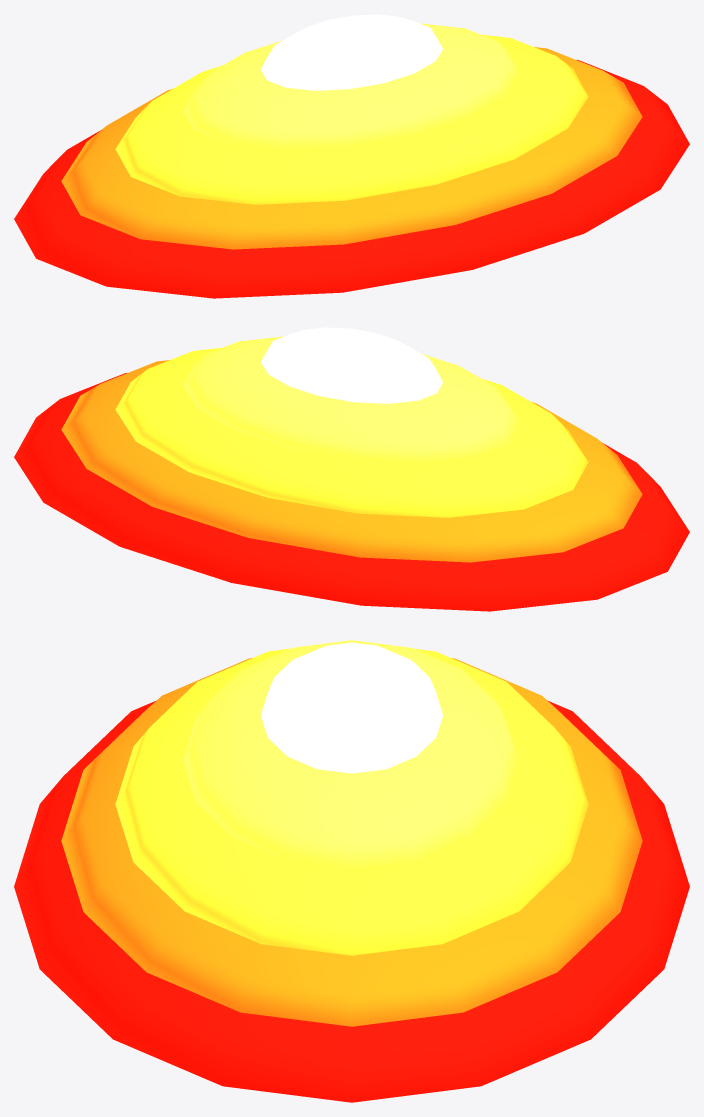
Rendered from newshj-19-f3.glb.
3 renders of one model, top to bottom at view 1: azimuth 30°, elevation 25°; view 2: azimuth 150°, elevation 25°; view 3: azimuth 270°, elevation 25°, orthographic. The views are drawn at different scales.
Parts seen in each view (by area): view 1: newshj-19-f3; view 2: newshj-19-f3; view 3: newshj-19-f3.
Boxes of the visible parts, box(x1,y1,x2,y2) form: newshj-19-f3: box(14, 14, 689, 298); newshj-19-f3: box(14, 327, 689, 611); newshj-19-f3: box(14, 640, 689, 1102).
Bounding box in the file's own units: 1.03 × 0.2412 × 0.6833.
